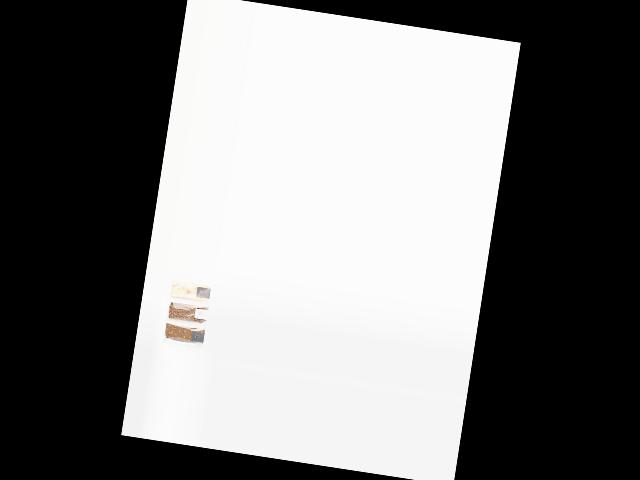chocolate: (161, 323, 205, 348)
